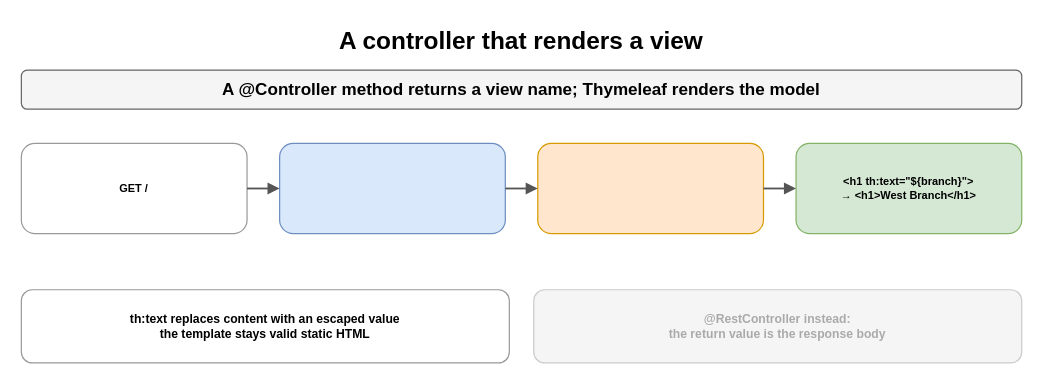
Some shapes in this 1043 by 384 pixel diagram are drawn without their labels. The centre of each missing label's shape, as x and y in pixels:
HomeController.index(Model) addAttribute("branch", "West Branch"): the point at 391,188
returns "index" → templates/index.html: the point at 650,188
